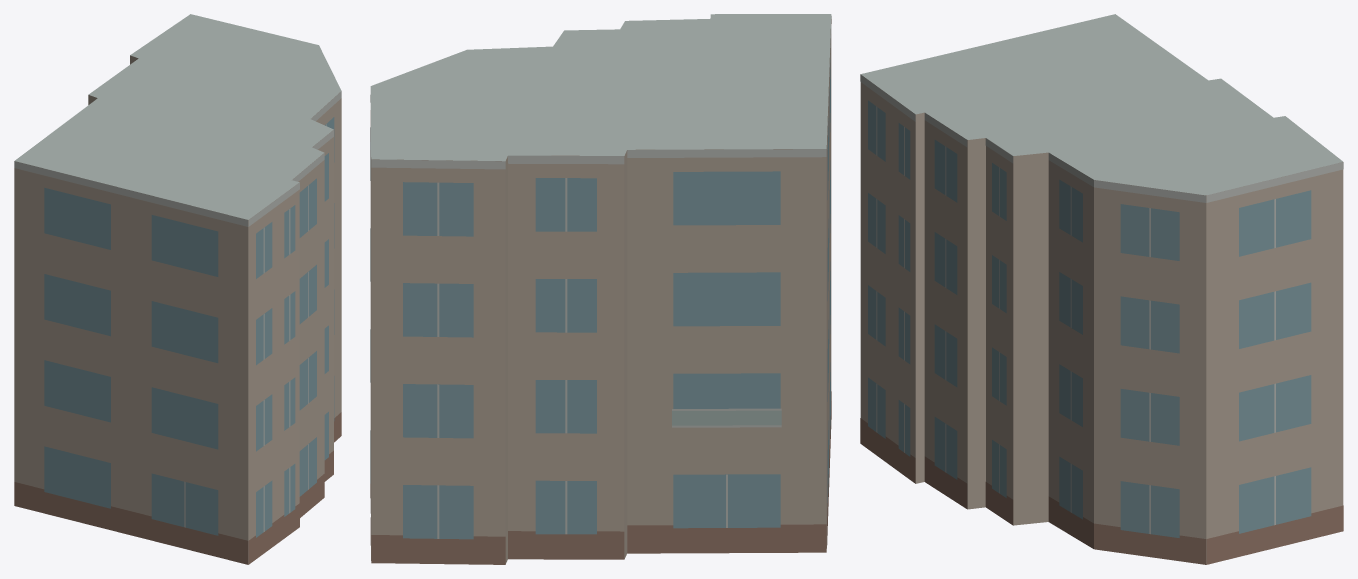
The model's file is survey-upis-32621711.glb.
The picture shows the model from 3 angles, left to right: view 1: azimuth 30°, elevation 25°; view 2: azimuth 150°, elevation 25°; view 3: azimuth 270°, elevation 25°; orthographic projection. The views are drawn at different scales.
Parts seen in each view (by area): view 1: survey-upis-32621711.tmp; view 2: survey-upis-32621711.tmp; view 3: survey-upis-32621711.tmp.
Part boxes in pixels (left/top/right/bottom): survey-upis-32621711.tmp: left=14, top=14, right=341, bottom=564; survey-upis-32621711.tmp: left=370, top=14, right=831, bottom=564; survey-upis-32621711.tmp: left=860, top=14, right=1343, bottom=564.
Size of the model in its own units: 12.55 by 11.9 by 14.11.
